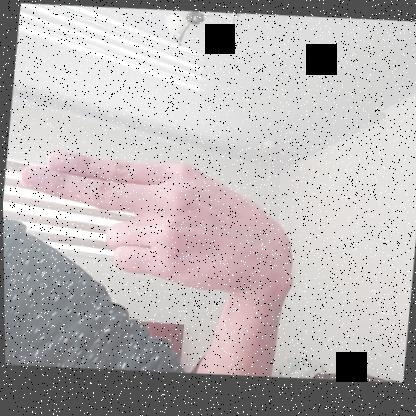H: (6, 132, 306, 311)
